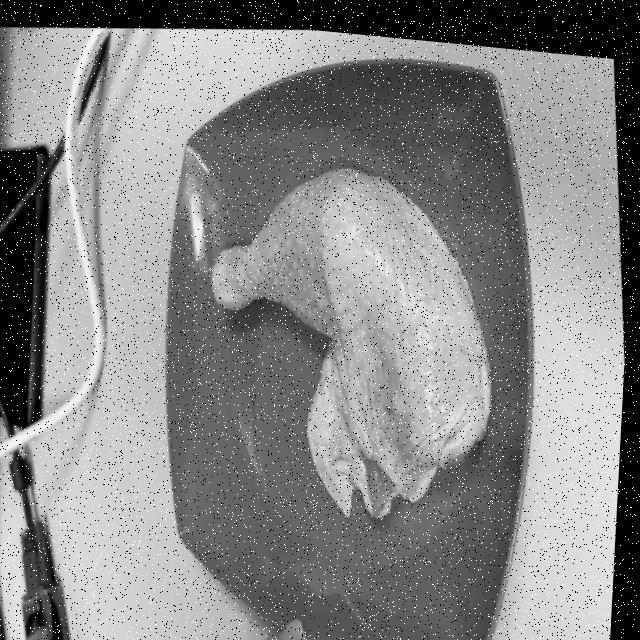quater: (209, 188, 488, 508)
